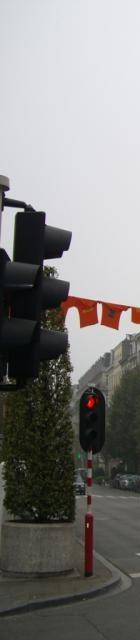red_light: (80, 387, 106, 454)
